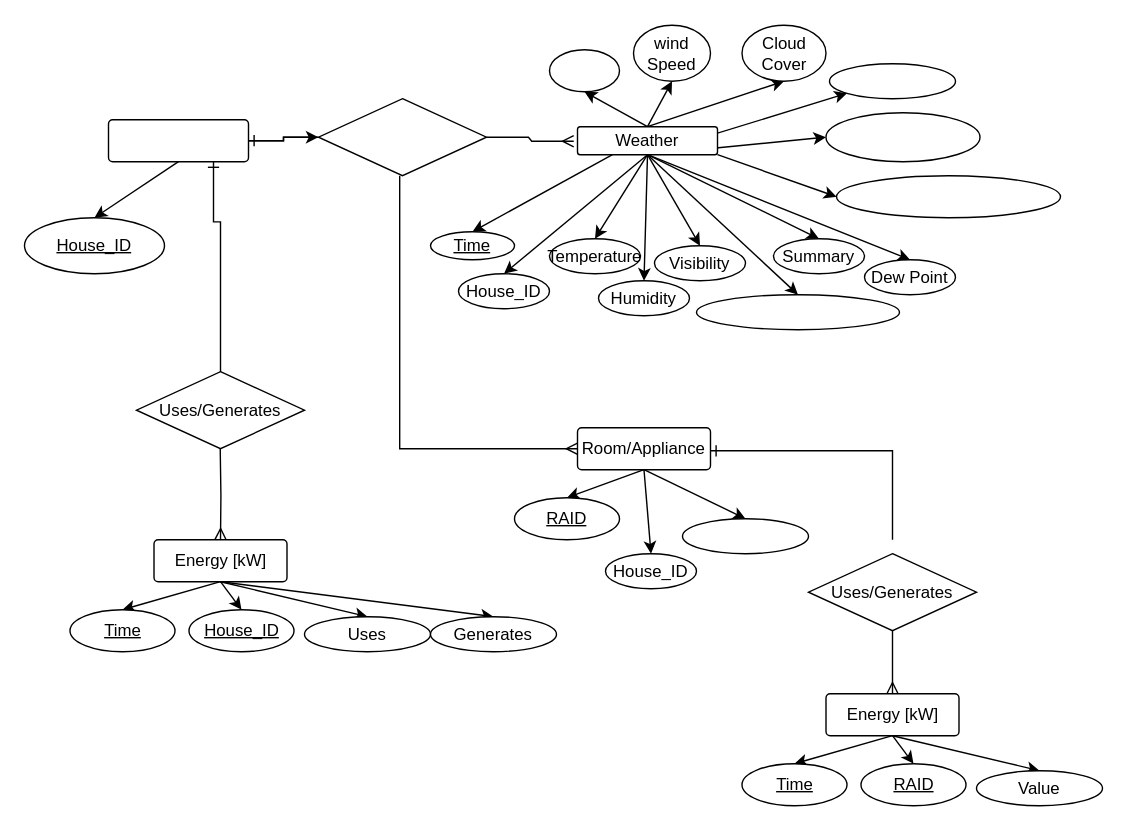
The diagram is 1127 pixels wide and 830 high, and some of its shapes have lost their labels. Each missing label, with the centre of its shape:
"Apparent Temperature" goes at point (797, 311).
"Has" goes at point (401, 136).
"House" goes at point (177, 140).
"Name" goes at point (744, 535).
"Precipitation Intensity" goes at point (902, 136).
"Precipitation Probability" goes at point (947, 196).
"Pressure" goes at point (584, 70).
"Wind Bearing" goes at point (891, 80).
